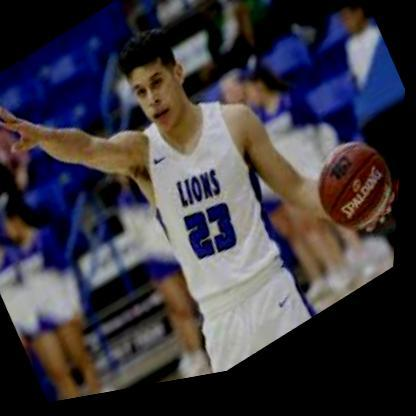basketball: (304, 135, 406, 264)
